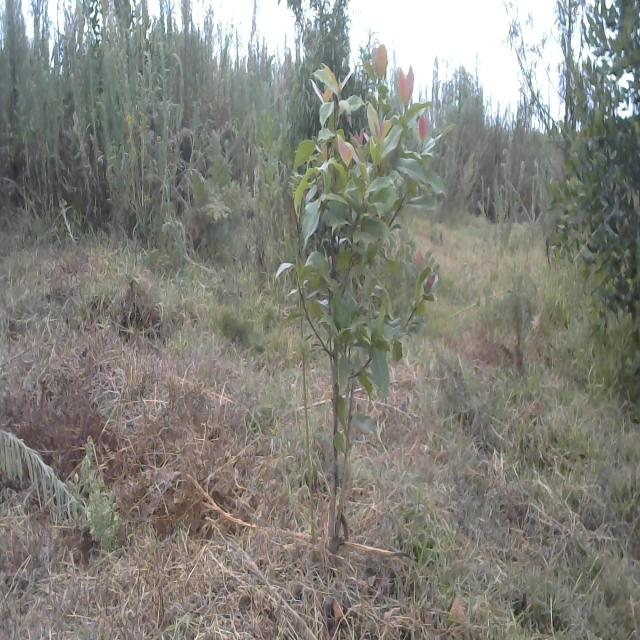Syzygium guinesis: (282, 47, 450, 558)
